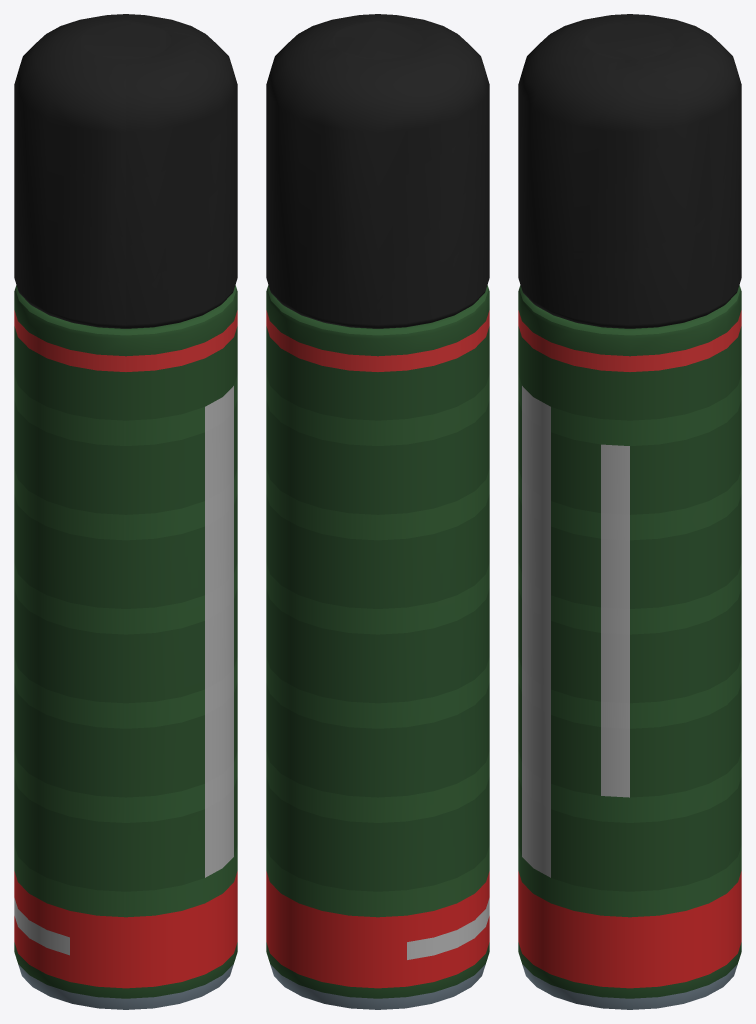
The model's file is SM_SpayCan_D.fbx.
3 views of the same model, side by side, from view 1: azimuth 30°, elevation 25°; view 2: azimuth 150°, elevation 25°; view 3: azimuth 270°, elevation 25° (orthographic).
Parts seen in each view (by area): view 1: SM_SpayCan_D; view 2: SM_SpayCan_D; view 3: SM_SpayCan_D.
Part boxes in pixels (x1,y1,x2,y2): SM_SpayCan_D: [14, 14, 237, 1009]; SM_SpayCan_D: [266, 14, 489, 1009]; SM_SpayCan_D: [518, 14, 741, 1009].
Bounding box in the file's own units: 8.76 × 39.95 × 8.76.
